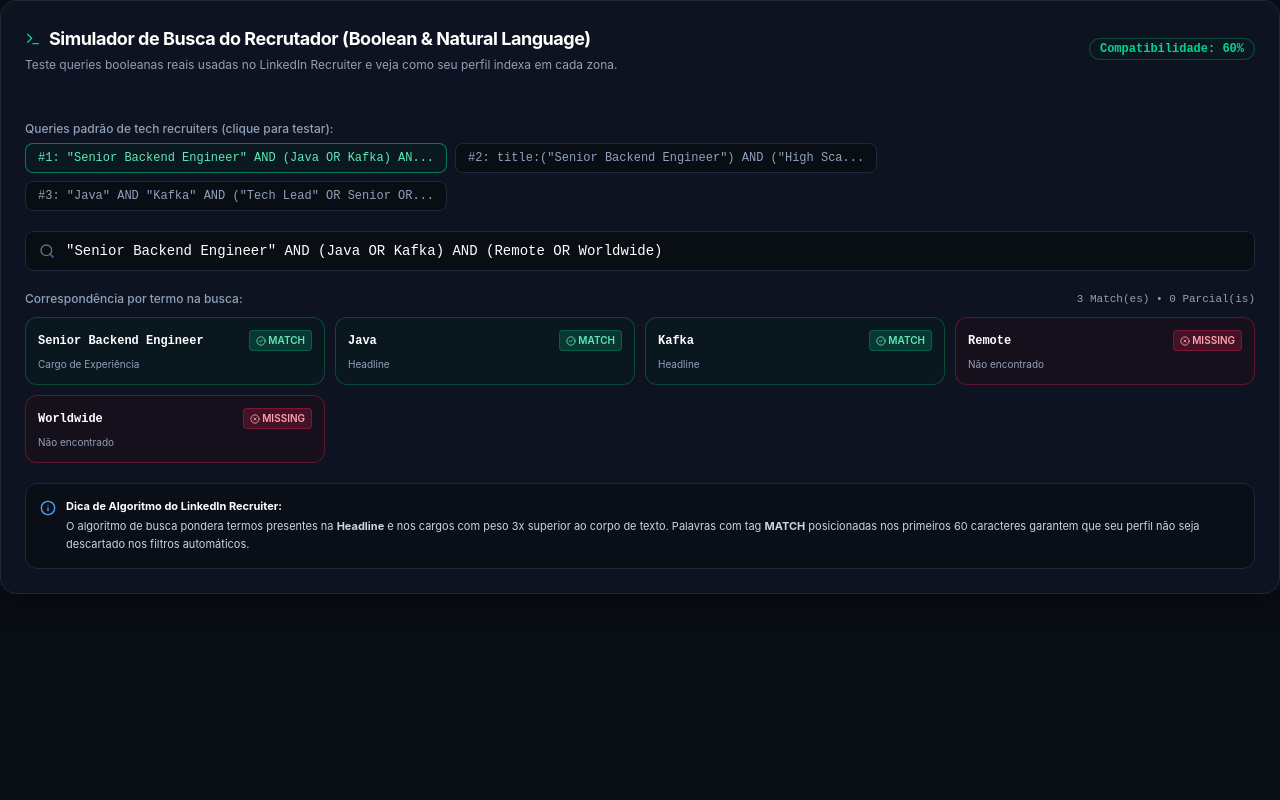
Test case: RecruiterSearchSimulator Component › correctly categorizes terms into MATCH, WEAK, and MISSING zones
Replace the text in the field with placeholder "Ex: \"Senior Backend Engineer\" AND (Java OR Go) AND Kafka" with "Java AND latency AND Blockchain" at x=640, y=251, box left=25, top=231, right=1255, bottom=271
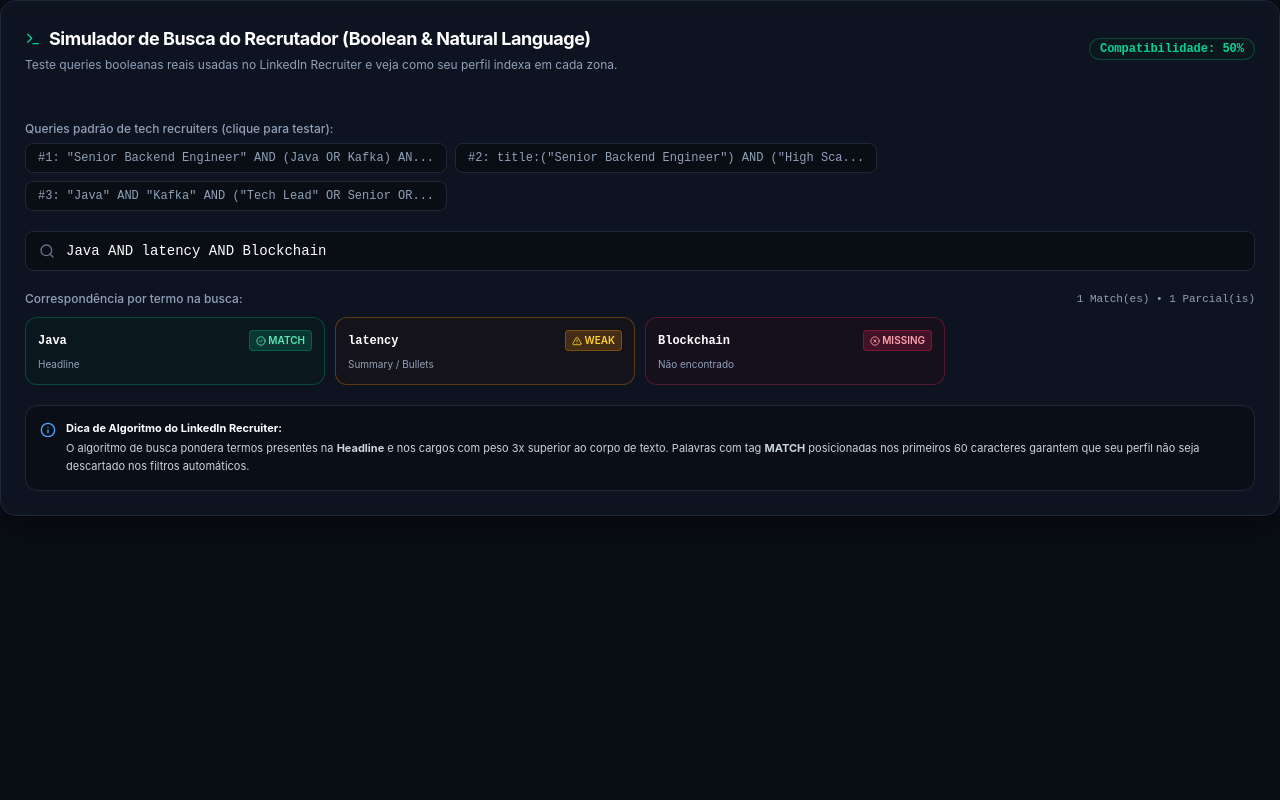
Expected: the text "MISSING" is shown, left=863, top=330, right=932, bottom=351
Expected: the text "WEAK" is shown, left=565, top=330, right=622, bottom=351
